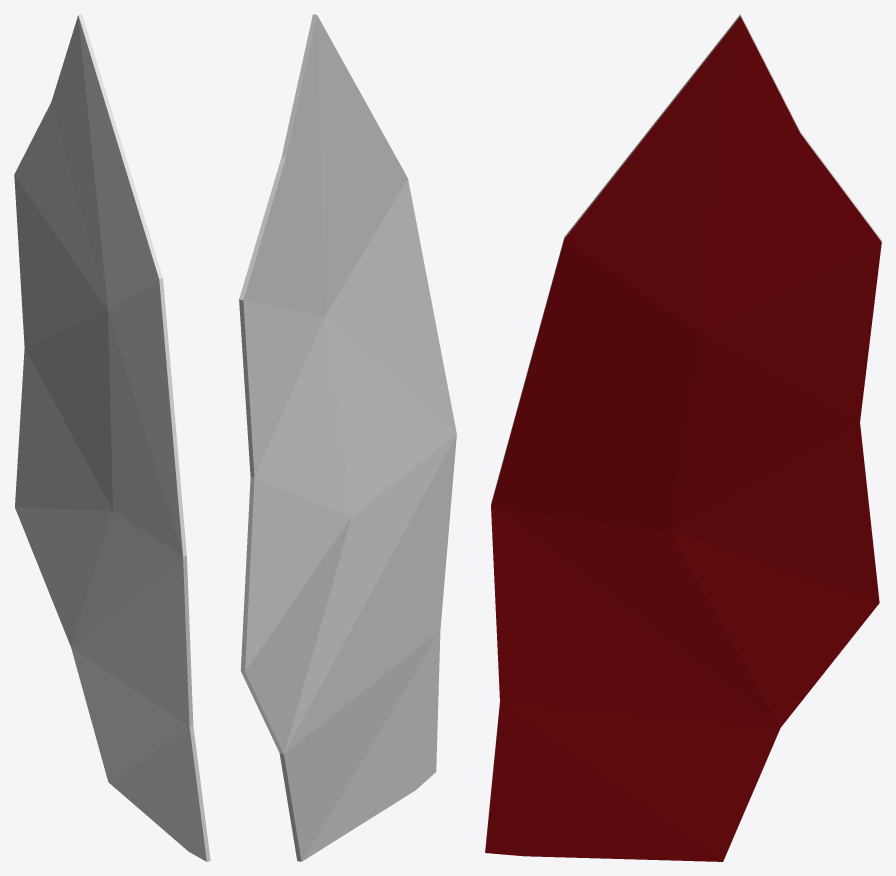
The model's file is wing_right.fbx.
The picture shows the model from 3 angles, left to right: view 1: azimuth 30°, elevation 25°; view 2: azimuth 150°, elevation 25°; view 3: azimuth 270°, elevation 25°; orthographic projection. The views are drawn at different scales.
Visible parts, largest first — view 1: Membrane.R; view 2: Membrane.R; view 3: Membrane.R.
Boxes of the visible parts, <box> form: Membrane.R: <box>14,14,210,861</box>; Membrane.R: <box>239,14,456,861</box>; Membrane.R: <box>485,14,881,861</box>.
Bounding box in the file's own units: 154 × 3148 × 1357.
